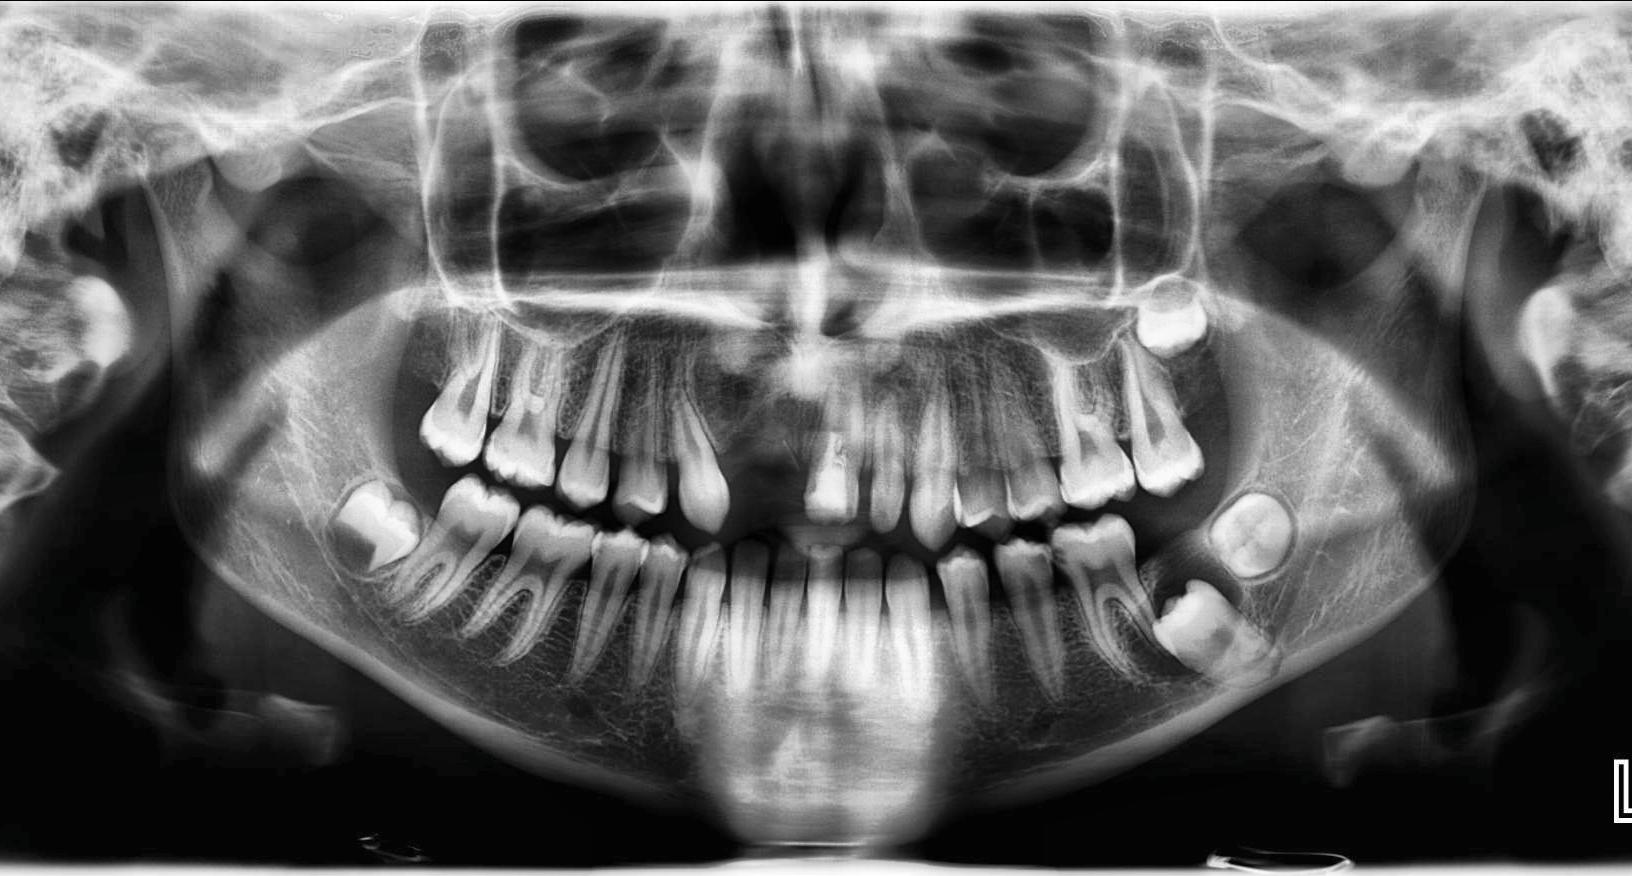dentigeroz: (1126, 536, 1246, 687)
